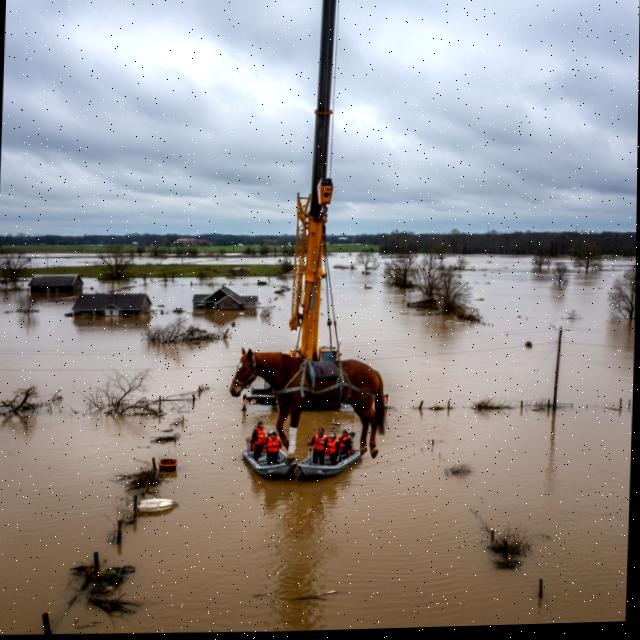horse: (221, 331, 407, 469)
rescuer: (245, 413, 268, 468), (304, 425, 331, 469), (262, 427, 283, 470), (325, 427, 341, 467), (337, 425, 353, 460)
